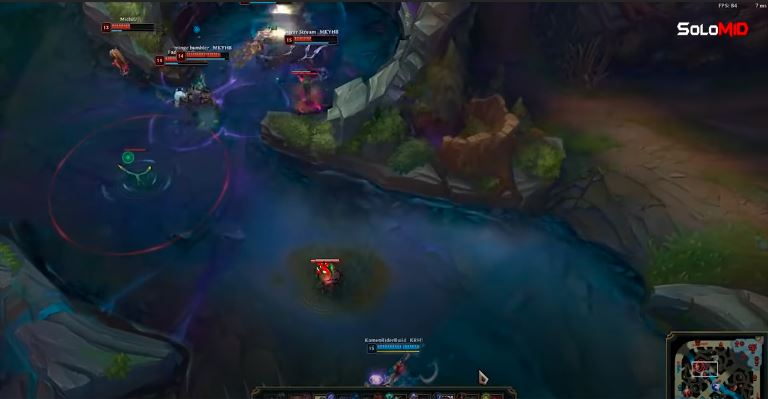bar: (100, 19, 166, 35), (152, 52, 217, 66), (363, 341, 424, 354), (172, 47, 228, 61), (280, 33, 340, 46), (234, 1, 298, 6)
